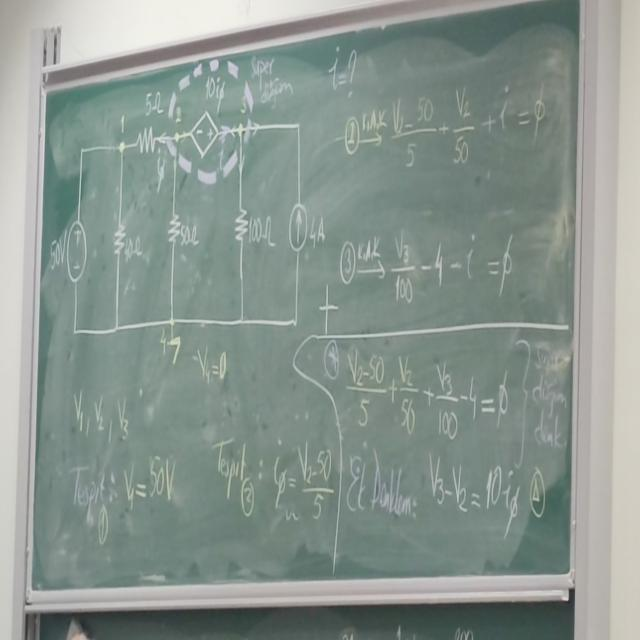image: (52, 46, 312, 383)
math: (338, 76, 556, 180), (342, 344, 516, 438), (388, 218, 522, 309), (418, 444, 529, 534), (265, 428, 343, 526), (120, 452, 186, 524)
text: (346, 443, 414, 530), (209, 432, 258, 507), (65, 454, 116, 520)
